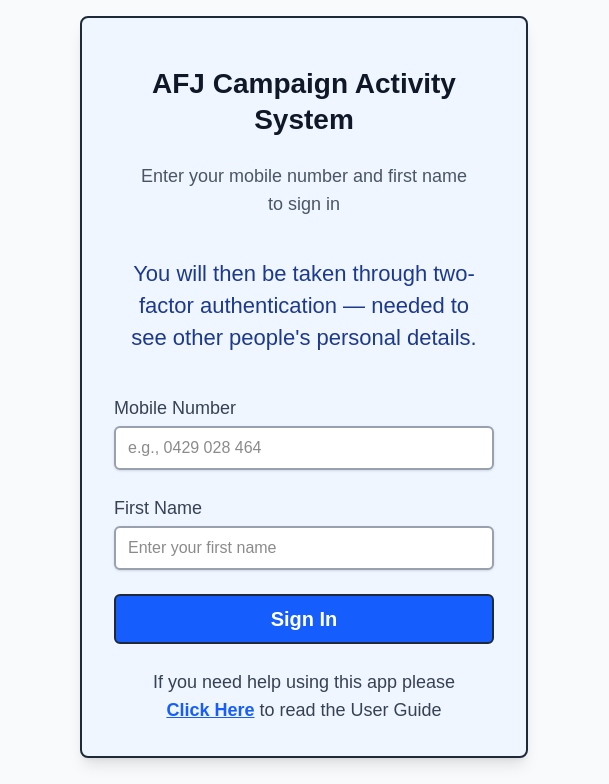
Test case: LoginPage — plain leaders and two-factor authentication › under ?require2fa=1 it does NOT sign them in with mobile+name — it starts the no-skip email step instead
Check: the text "needed to see other people.s personal details" is shown, box [131,261,477,350]
Type "0400000000" into the field with placeholder "e.g., 0429 028 464" at [304, 448], box [114,426,494,470]
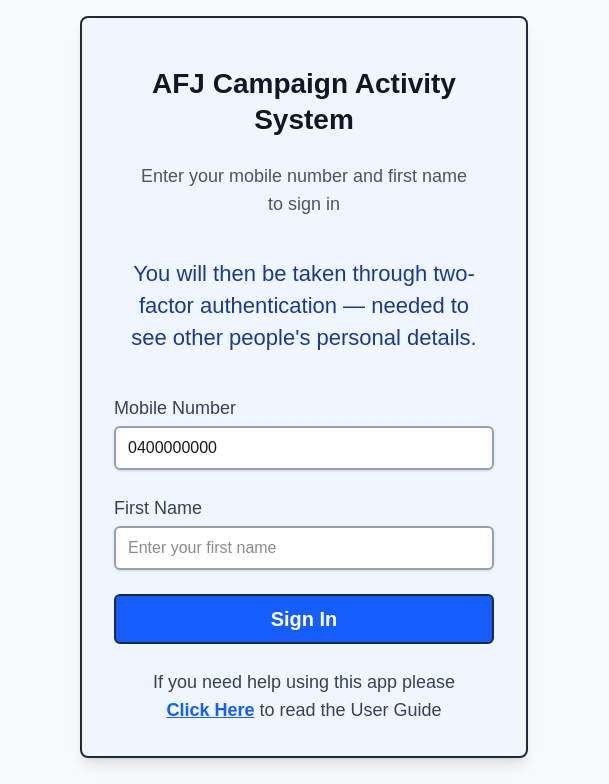
Type "Jack" into the field with placeholder "Enter your first name" at [304, 548], box [114,526,494,570]
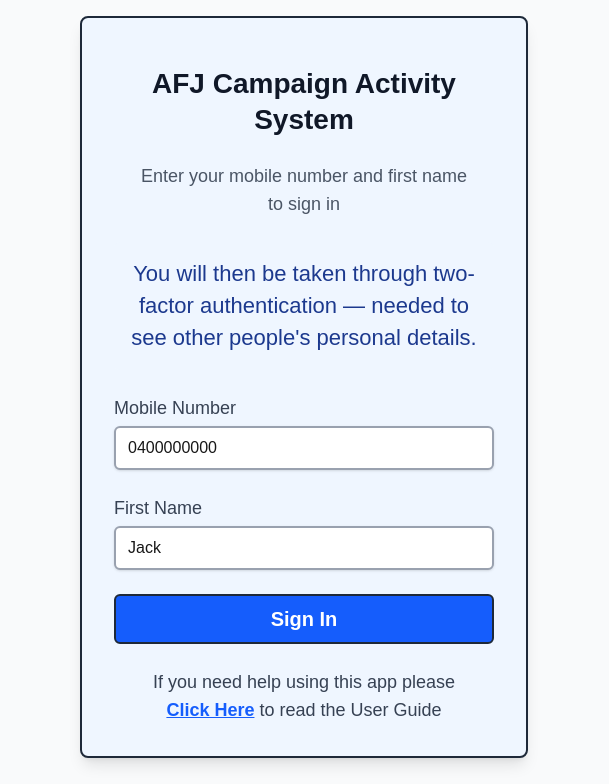
Click the button "Sign In" at [304, 619], box [114,594,494,644]
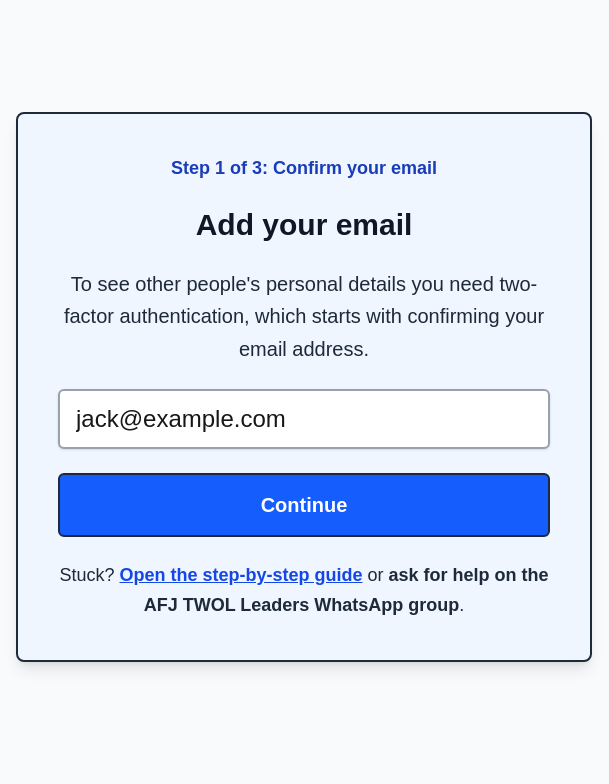
Check: the heading "Add your email" is shown, box [196,208,412,241]
